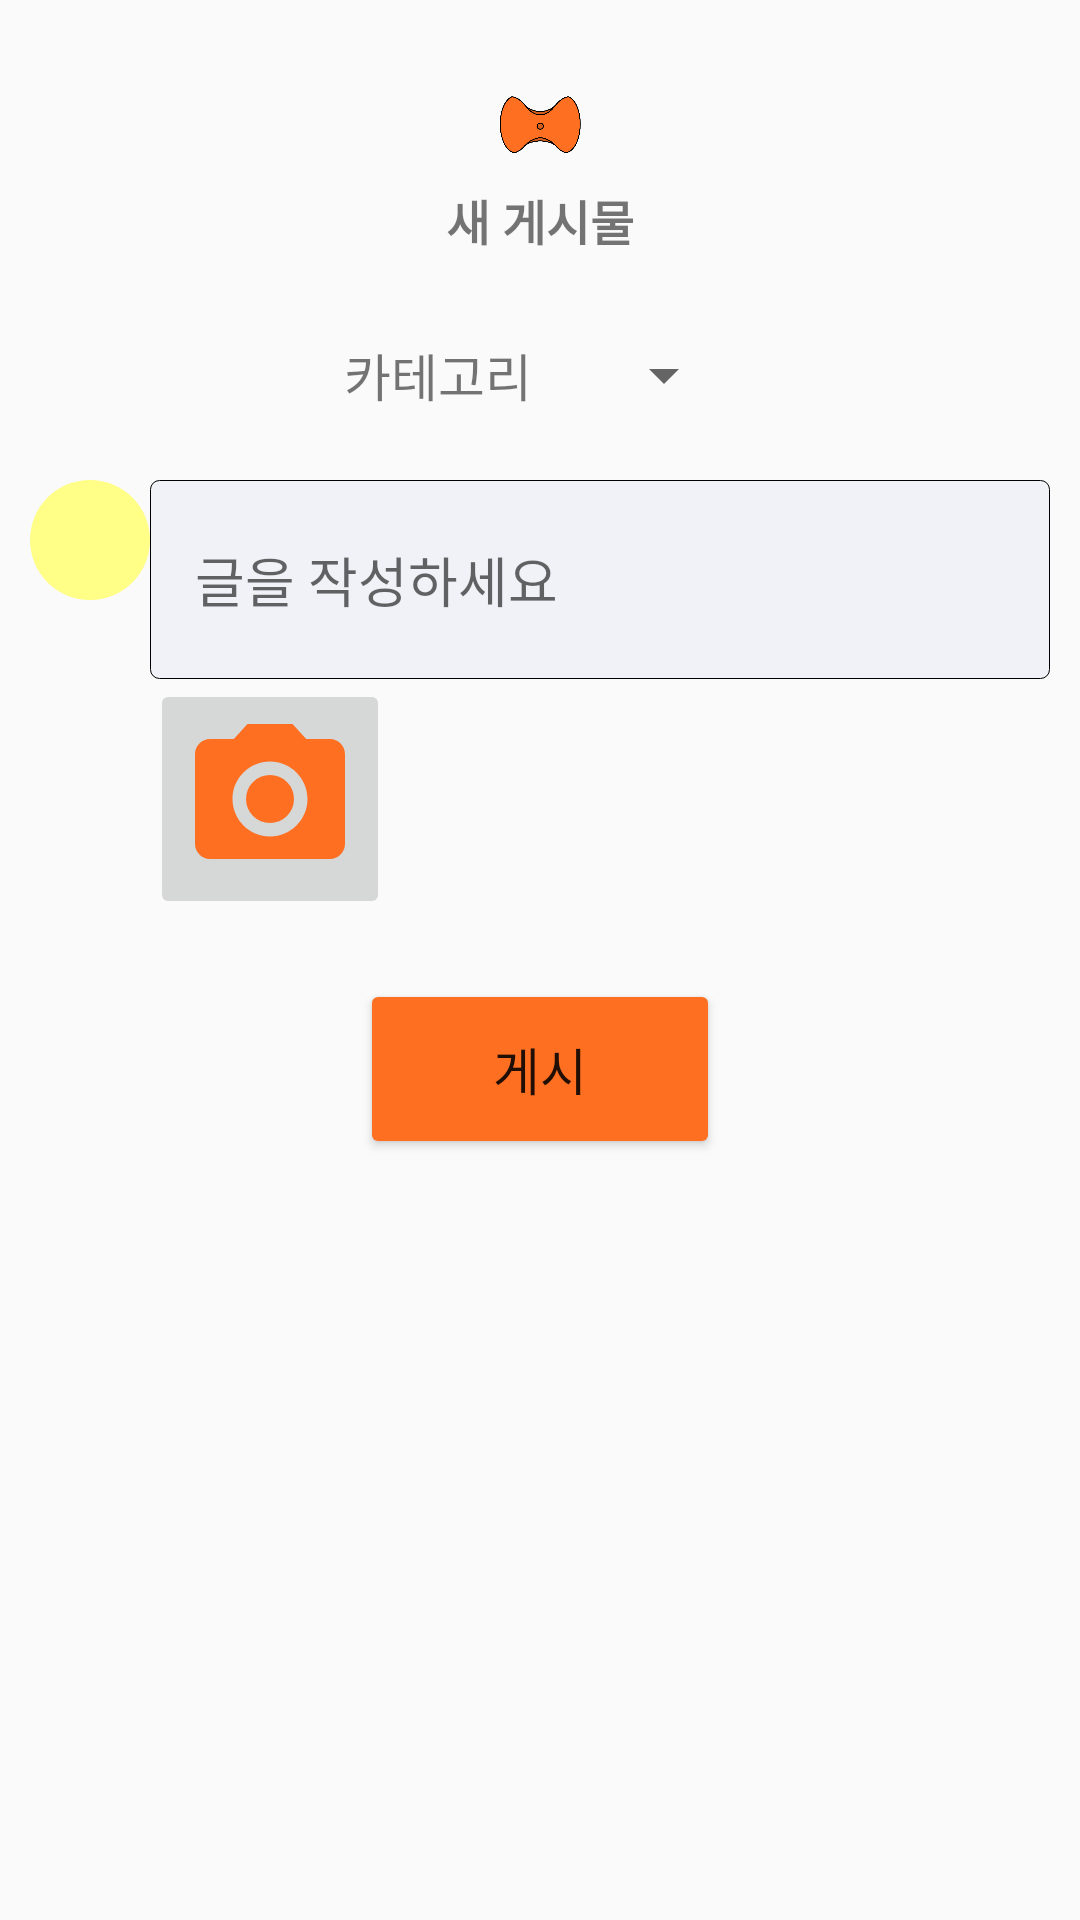

Where icons sit on this 1080w x 1920h app screen, as (x1, y1, x2, y2):
camera: (162, 697, 378, 901)
